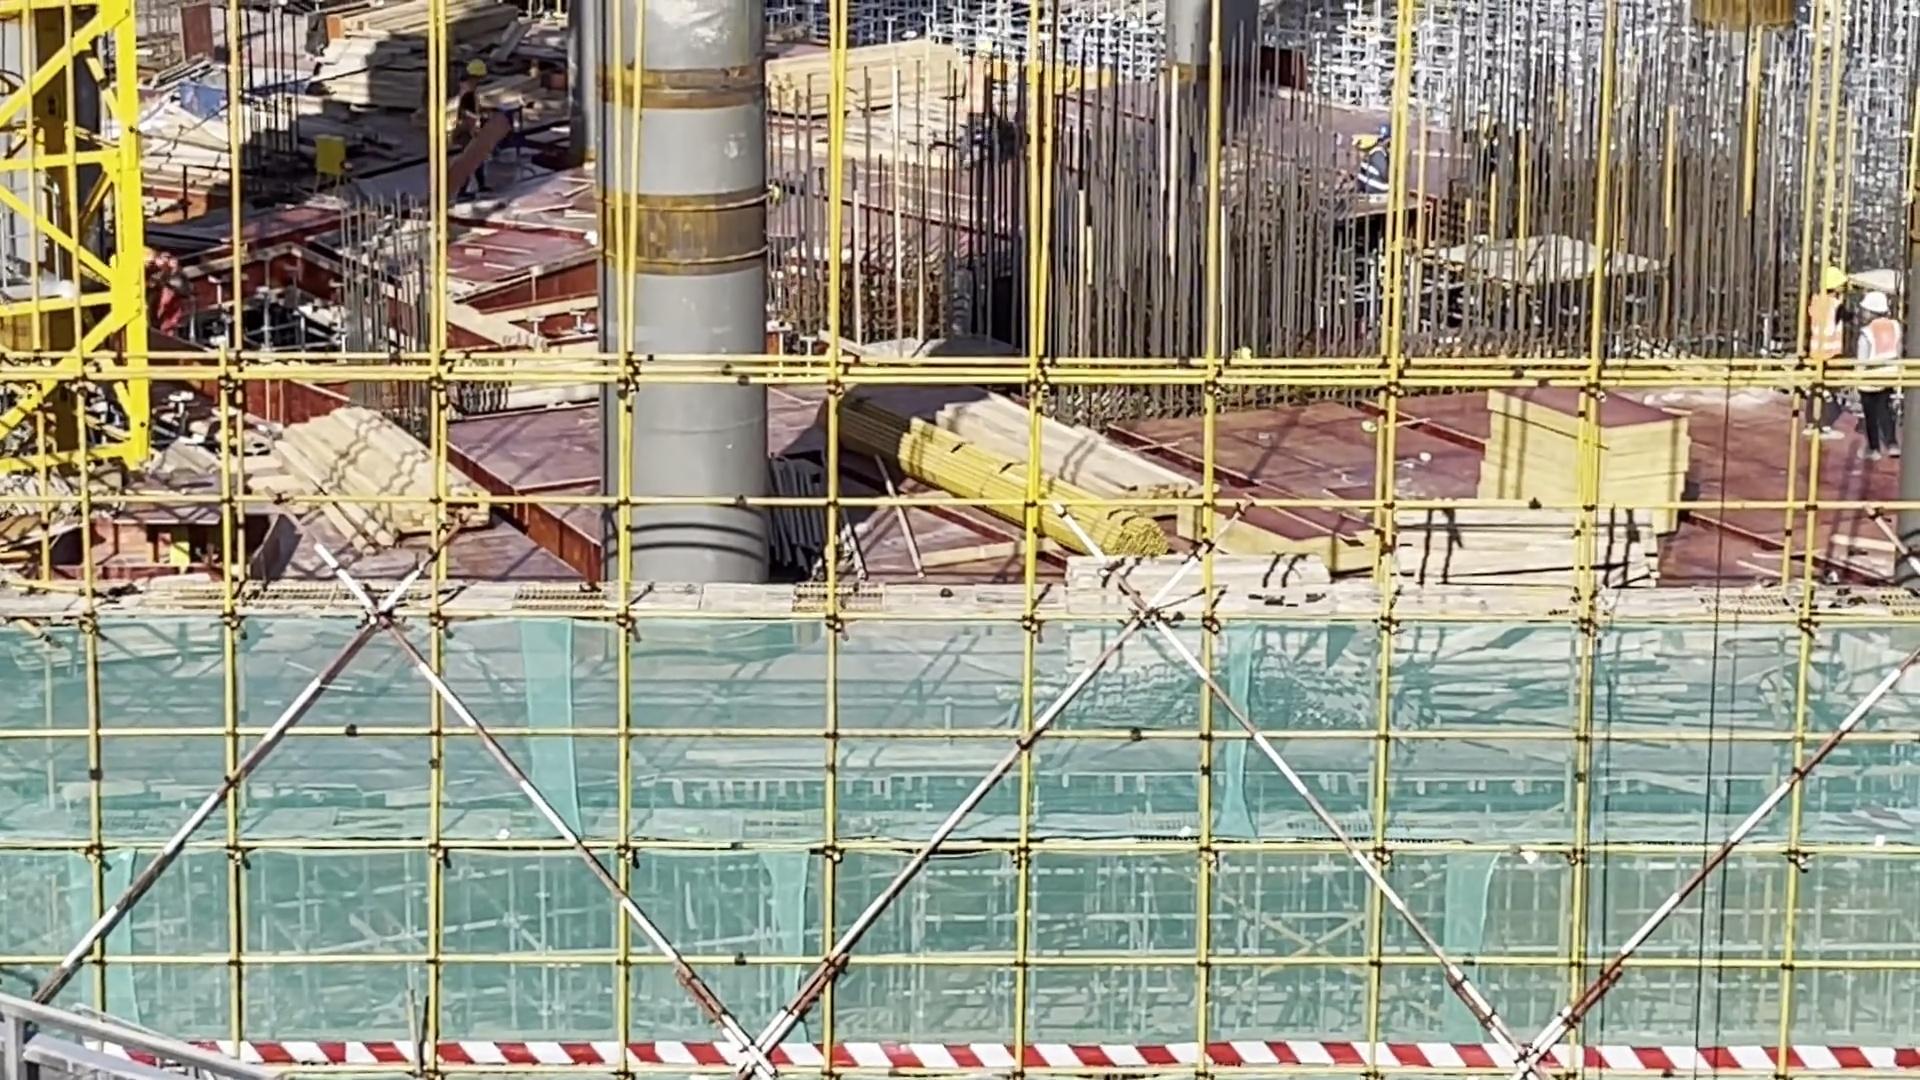board: (1481, 391, 1690, 530), (323, 19, 452, 111)
helmet: (1862, 291, 1892, 313), (1824, 268, 1849, 289)
person: (1851, 292, 1904, 461), (1798, 256, 1843, 437)
vest: (1808, 294, 1842, 358), (1862, 319, 1901, 360)
wood: (928, 399, 1189, 535), (259, 410, 485, 534), (767, 30, 973, 115)
